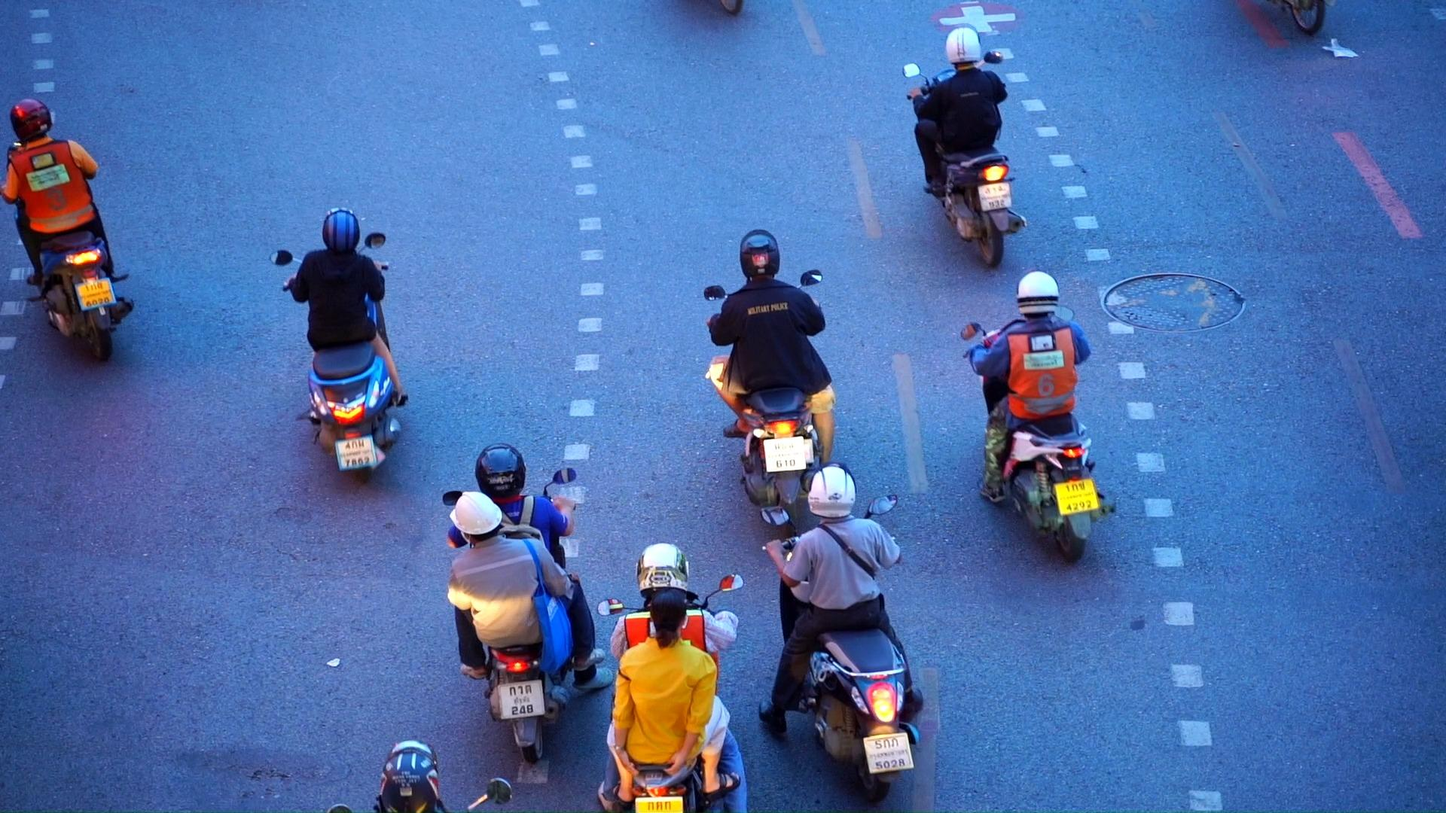driver: (760, 462, 923, 804), (444, 442, 614, 763), (962, 265, 1117, 565), (704, 228, 838, 538), (598, 543, 748, 813), (271, 206, 409, 484), (0, 98, 135, 362), (903, 23, 1028, 268), (326, 740, 512, 813)
helmet: (380, 741, 440, 813), (450, 491, 503, 550), (636, 543, 690, 600), (475, 442, 527, 499), (807, 461, 858, 519), (1016, 265, 1061, 318), (740, 229, 780, 284), (10, 98, 53, 144), (322, 206, 360, 255), (946, 23, 982, 70)
no-helmet: (649, 588, 689, 650)
